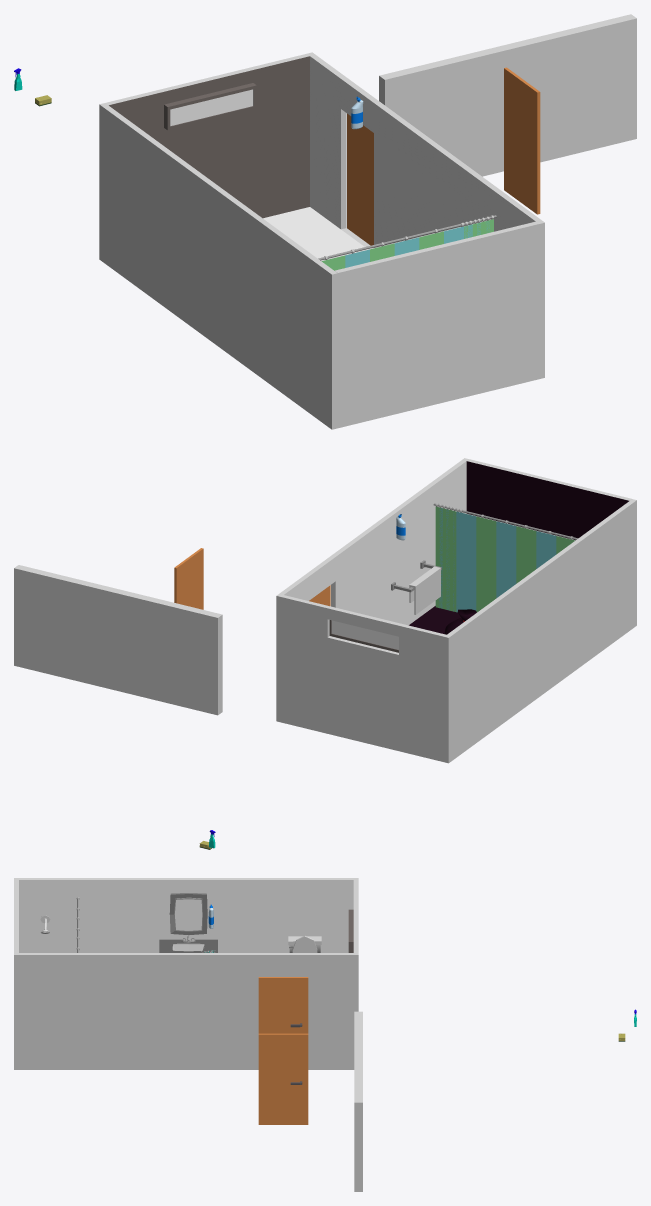
File: Broom_closet_test.fbx
3 views of the same model, one above another, from view 1: azimuth 30°, elevation 25°; view 2: azimuth 150°, elevation 25°; view 3: azimuth 270°, elevation 25° (orthographic). The views are drawn at different scales.
Parts seen in each view (by area): view 1: bathroom, Cube.003, Cube.001, Cube, ShowerCurtain, Window; view 2: bathroom, Cube.003, ShowerCurtain, ShowerCurtain.001, Cube.001, Towel_Rack, Window; view 3: bathroom, Cube.001, Cube, Cube.003, Mirror, Vanity, Toilet.
Part boxes in pixels (box(x1,y1,x2,y2)): bathroom: box(99, 52, 544, 429); Cube.003: box(379, 14, 636, 176); Cube.001: box(504, 67, 540, 214); Cube: box(347, 113, 373, 245); ShowerCurtain: box(318, 215, 496, 270); Window: box(164, 83, 256, 130); bathroom: box(276, 458, 636, 763); Cube.003: box(14, 565, 222, 715); ShowerCurtain: box(433, 503, 577, 612); ShowerCurtain.001: box(435, 504, 463, 611); Cube.001: box(174, 548, 203, 609); Towel_Rack: box(391, 560, 441, 614); Window: box(329, 620, 398, 652); bathroom: box(14, 878, 358, 1069); Cube.001: box(258, 1033, 308, 1124); Cube: box(258, 977, 308, 1033); Cube.003: box(354, 1011, 362, 1191); Mirror: box(169, 893, 207, 935); Vanity: box(159, 935, 217, 952); Toilet: box(288, 936, 321, 952).
Bounding box in the file's own units: 929 × 339 × 1265.
